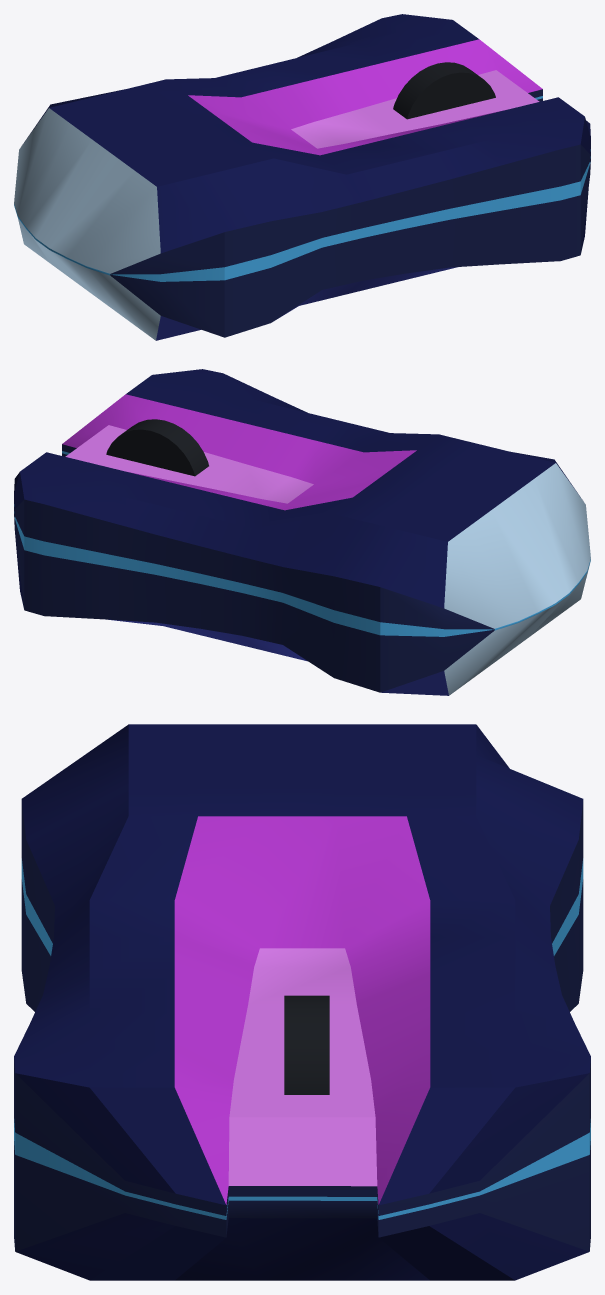
File: mouse.gltf
3 renders of one model, top to bottom at view 1: azimuth 30°, elevation 25°; view 2: azimuth 150°, elevation 25°; view 3: azimuth 270°, elevation 25°, orthographic. The views are drawn at different scales.
Visible parts, largest first — view 1: mouse.004; view 2: mouse.004; view 3: mouse.004.
Boxes of the visible parts, left/top/right/bottom form: mouse.004: left=14, top=14, right=590, bottom=340; mouse.004: left=14, top=369, right=590, bottom=695; mouse.004: left=14, top=724, right=590, bottom=1280.
Bounding box in the file's own units: 0.487 × 0.1261 × 0.2882.
Materials: 1 (1 with a texture image).
